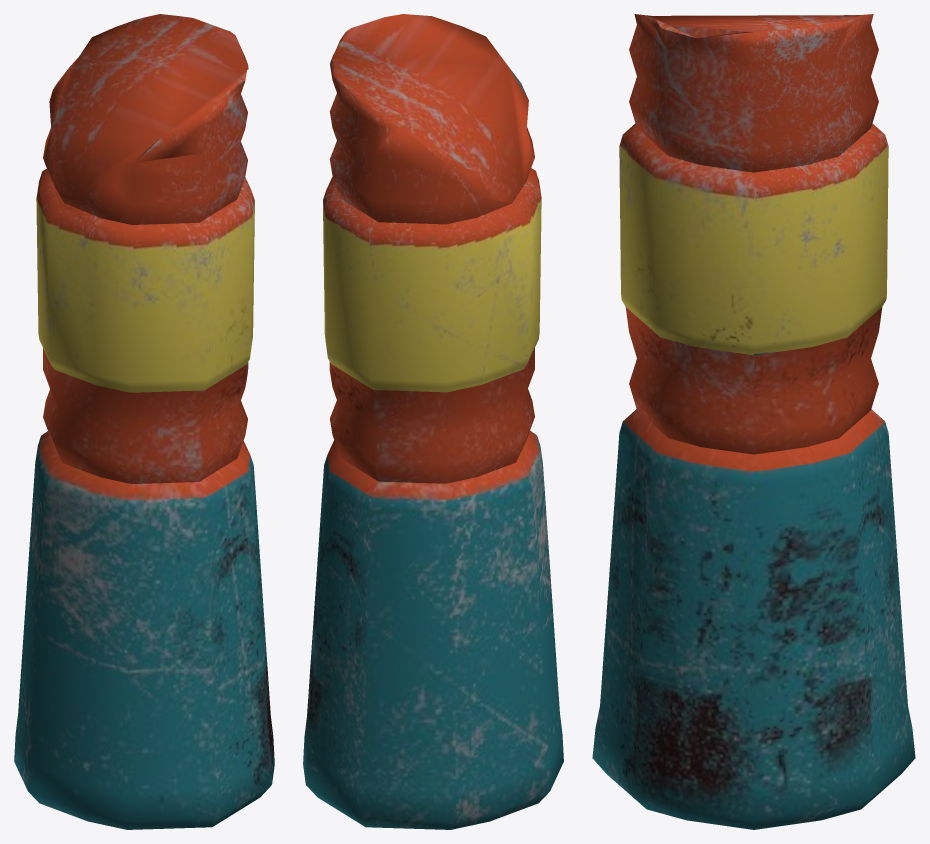
File: Foot_Right.FBX
3 views of the same model, side by side, from view 1: azimuth 30°, elevation 25°; view 2: azimuth 150°, elevation 25°; view 3: azimuth 270°, elevation 25° (orthographic). The views are drawn at different scales.
Visible parts, largest first — view 1: Foot_Right; view 2: Foot_Right; view 3: Foot_Right.
Boxes of the visible parts, x1=… form: Foot_Right: x1=14, y1=14, x2=274, y2=829; Foot_Right: x1=303, y1=14, x2=563, y2=829; Foot_Right: x1=592, y1=14, x2=915, y2=829.
Size of the model in its own units: 19.9 by 59.09 by 21.95.
